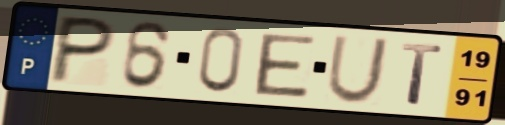0: (196, 26, 247, 95)
6: (119, 20, 172, 93)
E: (252, 32, 318, 101)
P: (43, 13, 121, 86)
T: (399, 40, 445, 108)
U: (323, 34, 393, 106)
